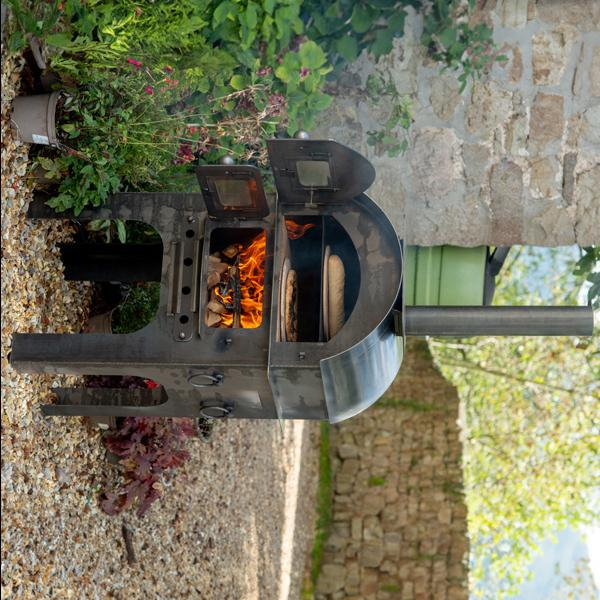controlled_fire: (189, 204, 276, 338)
